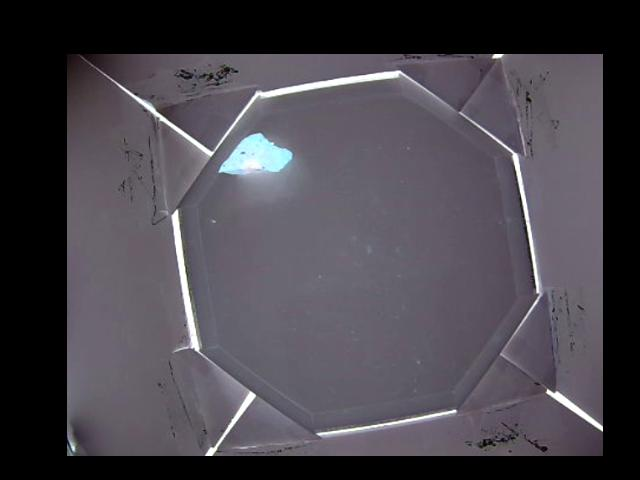Brisk: (216, 132, 293, 177)
